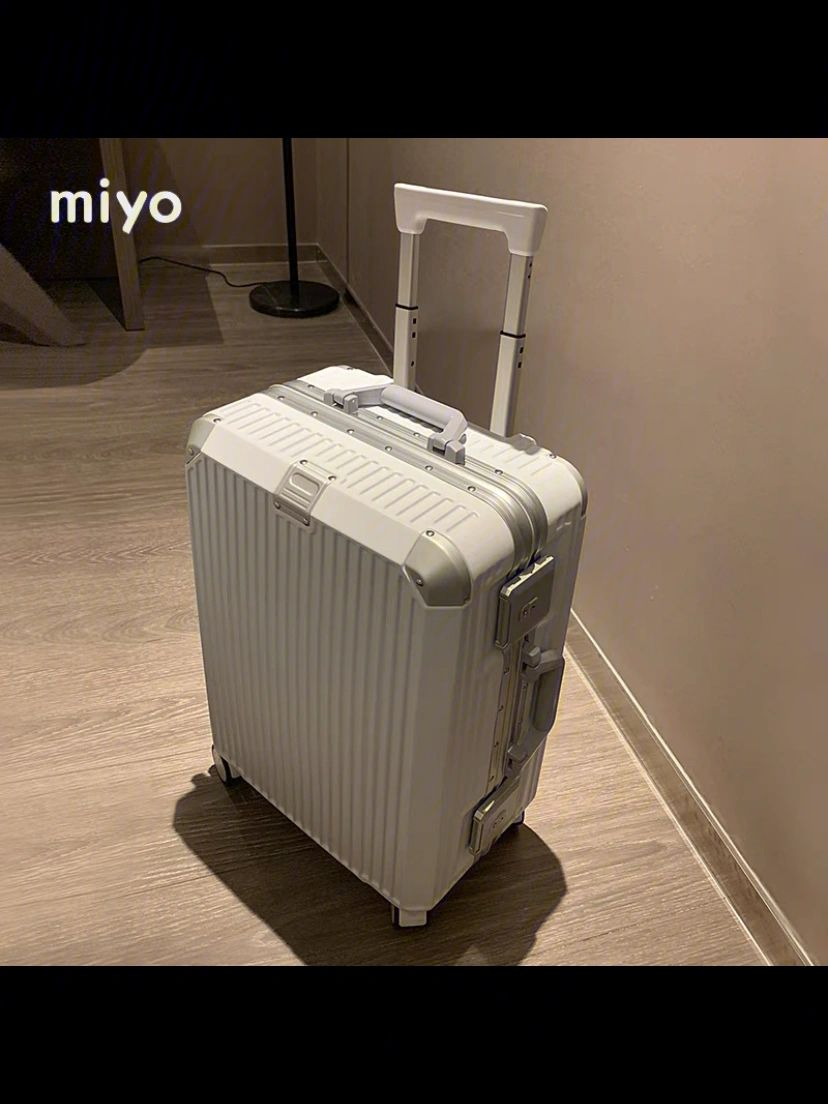box: (185, 365, 587, 913)
handle: (322, 382, 468, 464), (505, 643, 565, 773)
